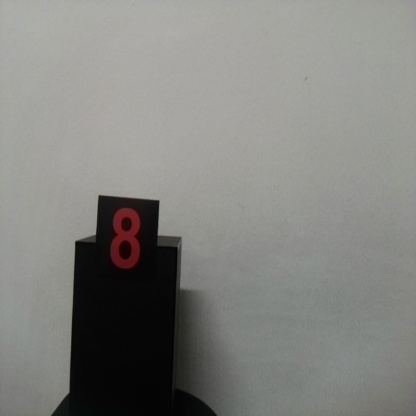id_8: (98, 197, 157, 300)
